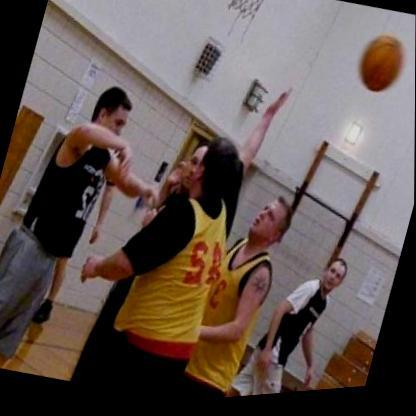basketball: (352, 34, 412, 106)
